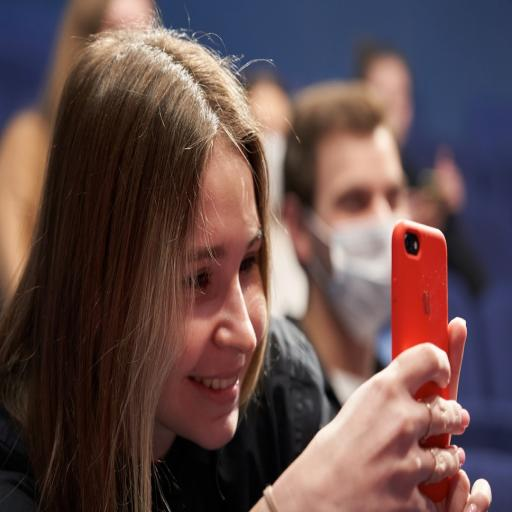face: (154, 139, 266, 457), (313, 126, 407, 226)
